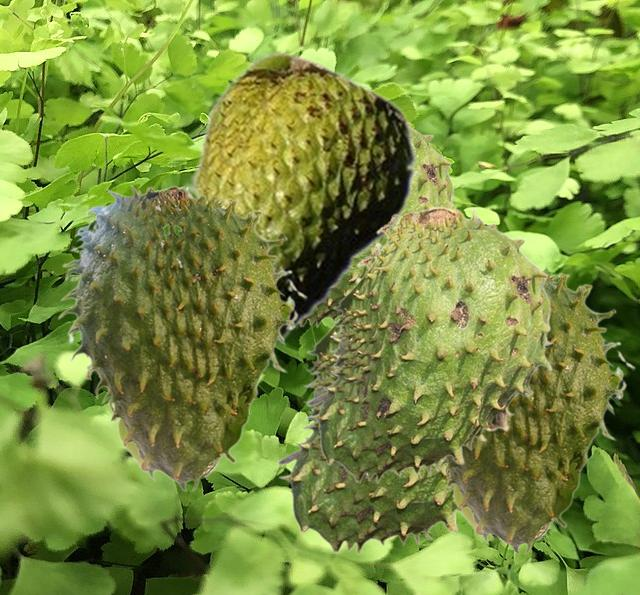guyabano: (57, 184, 307, 491), (181, 50, 417, 345), (306, 206, 553, 483), (432, 268, 635, 554), (276, 243, 459, 554), (301, 121, 454, 327)
